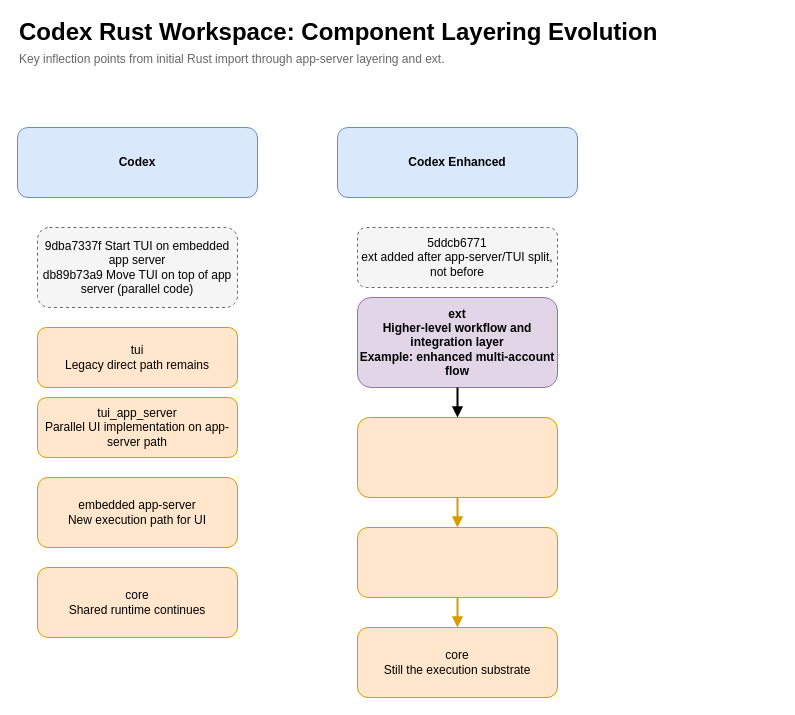
This 795x715 diagram has some shape labels left out. The centre of each missing label's shape, as x and y in pixels:
app-server / protocol Service boundary remains central: the point at 457,562
tui + tui_app_server Multiple frontends coexist above the shared stack: the point at 457,457
